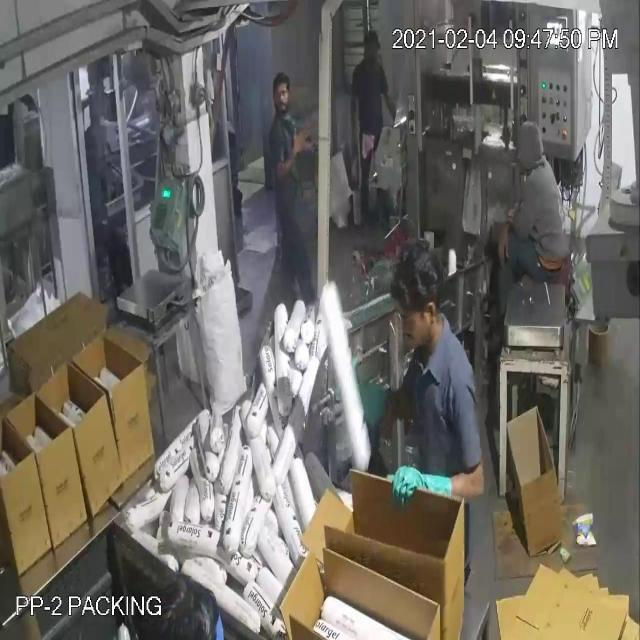Gloves: (23, 62, 503, 482)
